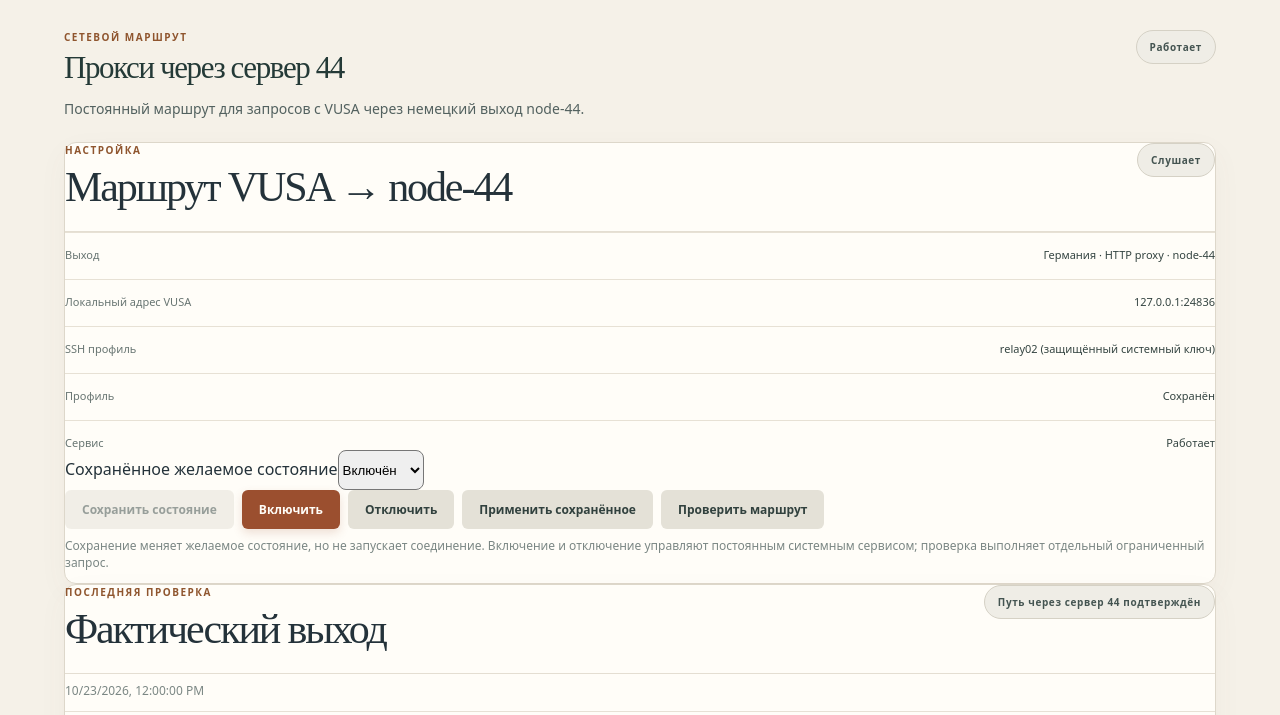
Scenario: uses the same recovery readback when saving returns no response
Expected: the text "Слушает" is shown, [1137, 143, 1215, 177]
Select "Выключен" in the dropdown. click: (381, 470)
box: [338, 450, 424, 490]
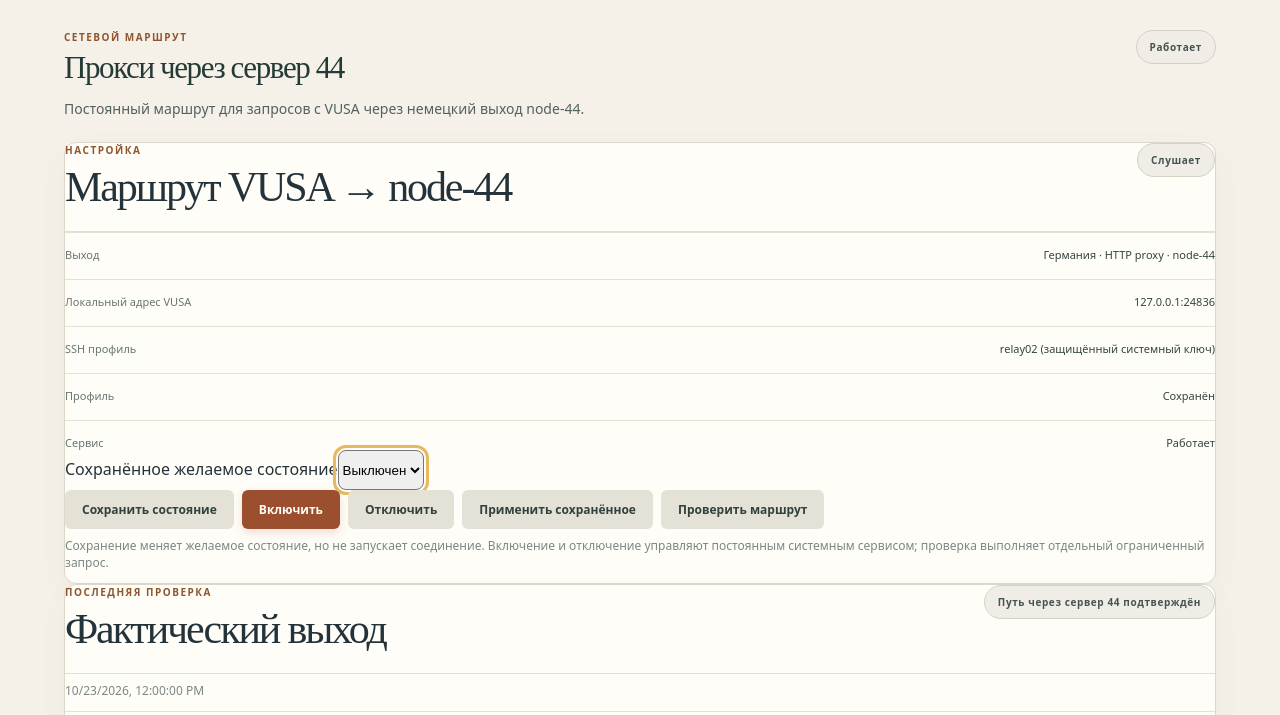
Click the button "Сохранить состояние". click: (149, 510)
box: [65, 490, 234, 529]
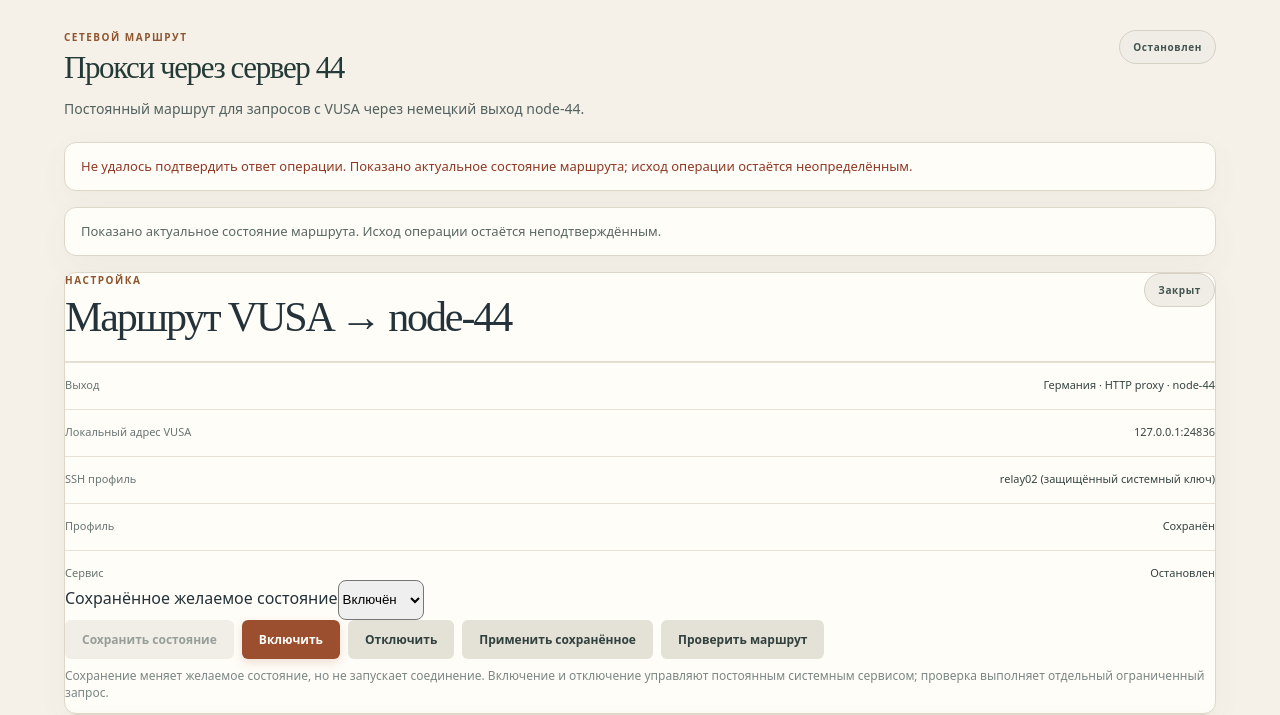
Expected: the text "Остановлен" is shown 2 times, [1119, 30, 1216, 64]; [1150, 565, 1215, 580]
Expected: the text "Не удалось подтвердить ответ операции. Показано актуальное состояние маршрута; исход операции остаётся неопределённым." is shown, [81, 157, 912, 175]
Expected: the text "Закрыт" is shown, [1144, 273, 1215, 307]
